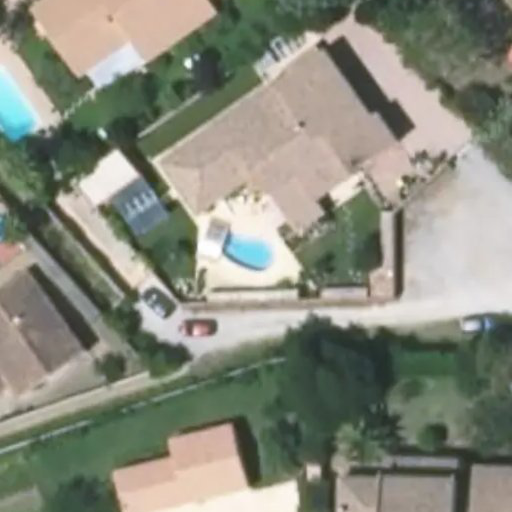pool: (1, 66, 38, 149), (218, 230, 271, 268)
